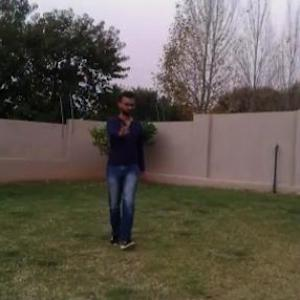takeoff-hand: (110, 118, 134, 144)
